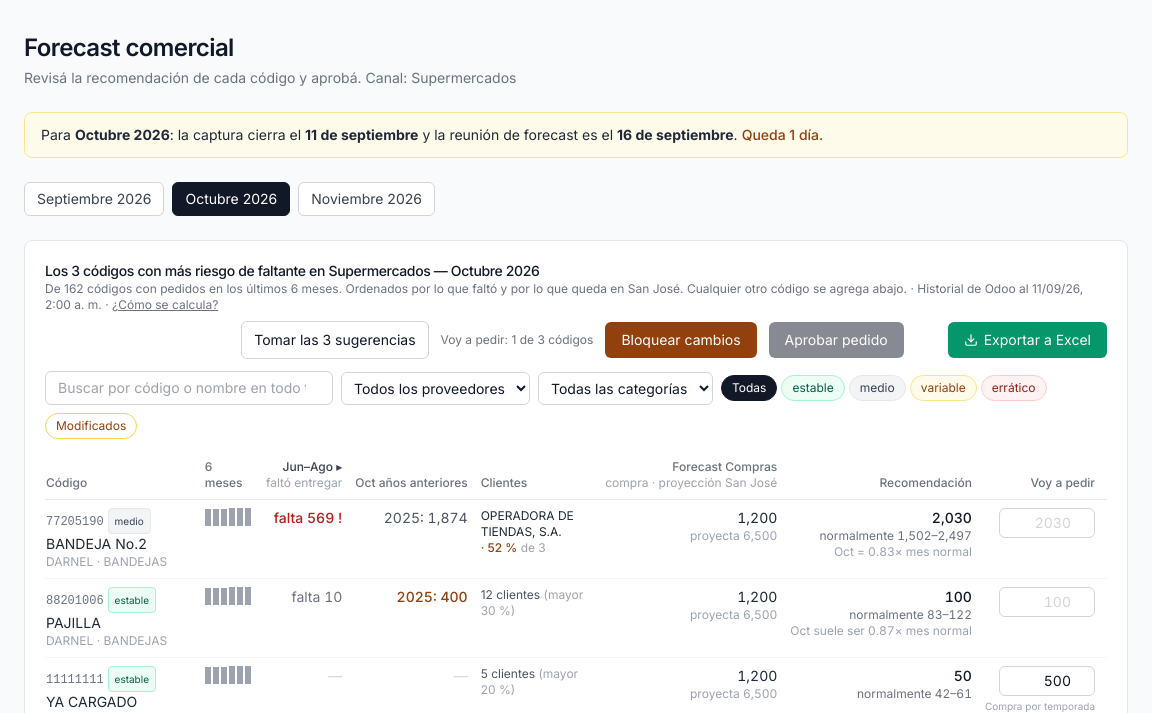
Test case: proveedor y categoría filtran en el servidor sobre todo el canal, con las opciones del canal
This screenshot has width=1152, height=713.
Expected: the text "77205190" is shown, x1=46 y1=515 x2=104 y2=529
Select "REYMA" in the dropdown named "Filtrar por proveedor". click: (436, 388)
box: x1=341 y1=372 x2=530 y2=404
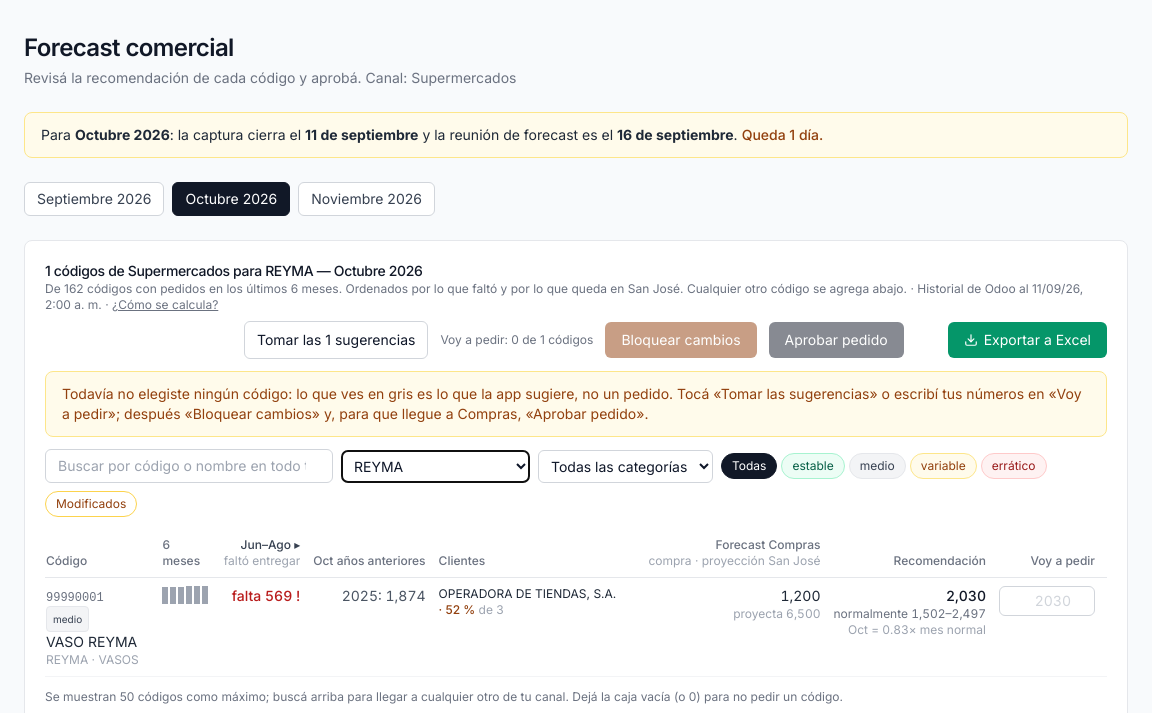
Result: the text "99990001" is shown at x1=46 y1=591 x2=104 y2=605
Result: the text "77205190" is gone
Result: the heading "1 códigos de Supermercados para REYMA — Octubre 2026" is shown at x1=45 y1=262 x2=422 y2=279
Select "VASOS" in the dropdown named "Filtrar por categoría". click: (626, 466)
box: x1=538 y1=450 x2=713 y2=482
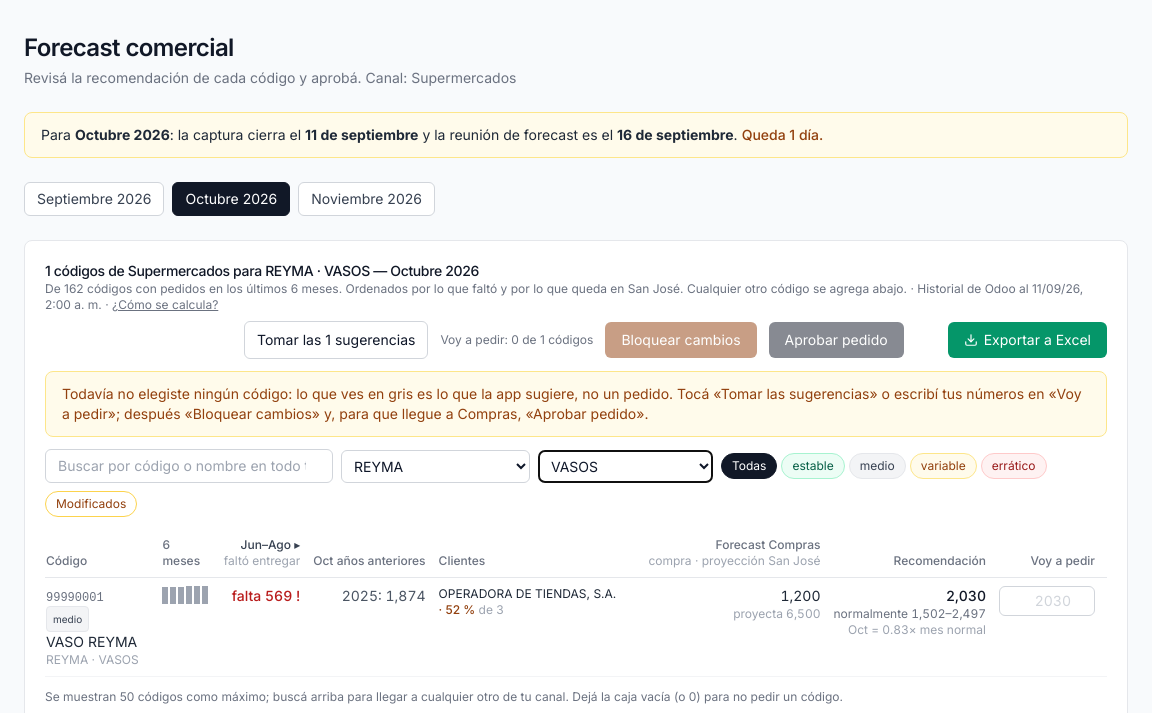
Result: the heading "1 códigos de Supermercados para REYMA · VASOS — Octubre 2026" is shown at x1=45 y1=262 x2=479 y2=279
